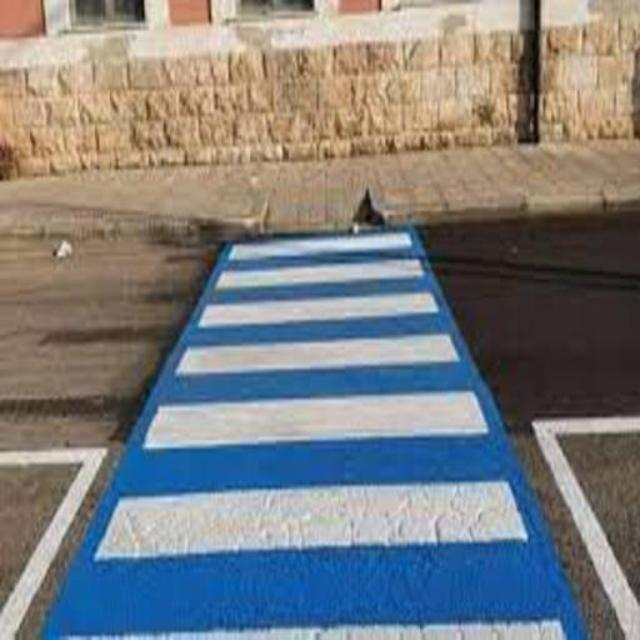sidewalk: (52, 225, 583, 640)
